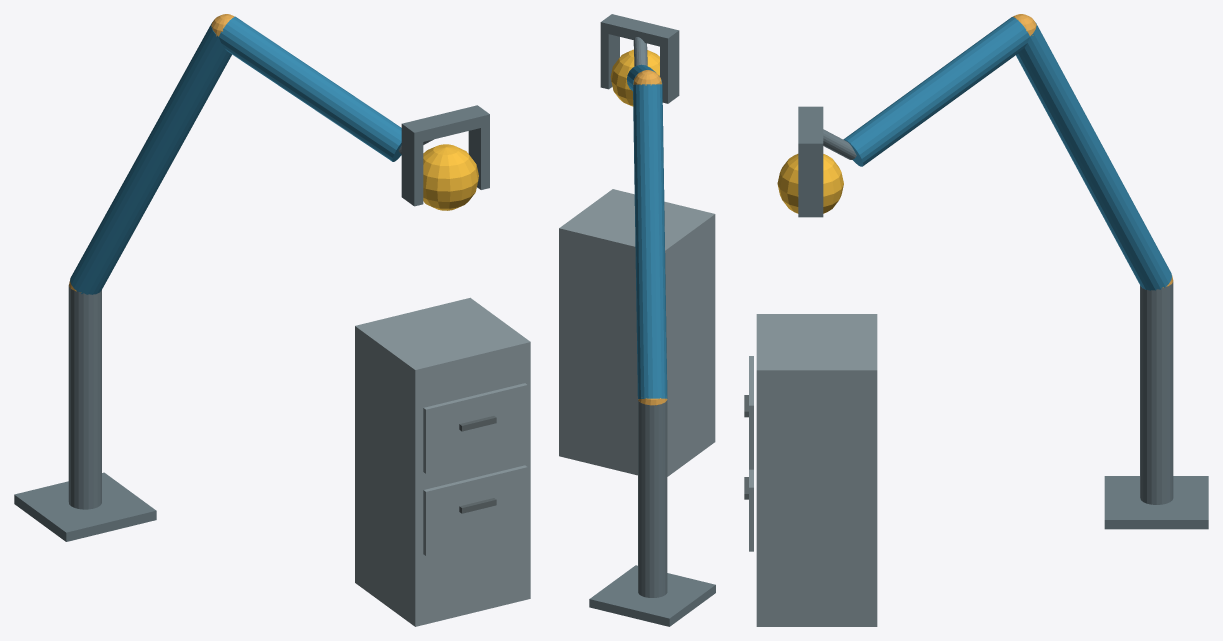
3 views of the same model, side by side, from view 1: azimuth 30°, elevation 25°; view 2: azimuth 150°, elevation 25°; view 3: azimuth 270°, elevation 25° (orthographic). The views are drawn at different scales.
Parts seen in each view (by area): view 1: cabinet_1 body, moving link 1, fixed post, moving link 2, cabinet_1 drawer front, cabinet_1 drawer front.001, pedestal, ball ball_1, gripper bridge, gripper finger -1, gripper finger 1; view 2: cabinet_1 body, moving link 1, fixed post, pedestal, gripper bridge, ball ball_1, gripper finger -1, gripper finger 1, gripper wrist connector, joint 2, moving link 2; view 3: cabinet_1 body, moving link 1, fixed post, moving link 2, pedestal, ball ball_1, gripper finger 1, gripper bridge.
Boxes of the visible parts, bbox=[...] form: cabinet_1 body: bbox=[355, 297, 530, 626]; moving link 1: bbox=[70, 23, 231, 294]; fixed post: bbox=[68, 285, 101, 509]; moving link 2: bbox=[219, 16, 401, 161]; cabinet_1 drawer front: bbox=[423, 465, 527, 555]; cabinet_1 drawer front.001: bbox=[423, 383, 527, 473]; pedestal: bbox=[14, 472, 156, 541]; ball ball_1: bbox=[423, 144, 478, 210]; gripper bridge: bbox=[401, 105, 489, 143]; gripper finger -1: bbox=[401, 135, 423, 206]; gripper finger 1: bbox=[468, 126, 489, 189]; cabinet_1 body: bbox=[559, 189, 715, 476]; moving link 1: bbox=[633, 84, 667, 399]; fixed post: bbox=[638, 399, 667, 597]; pedestal: bbox=[589, 565, 715, 626]; gripper bridge: bbox=[600, 14, 679, 48]; ball ball_1: bbox=[610, 49, 659, 106]; gripper finger -1: bbox=[660, 41, 679, 103]; gripper finger 1: bbox=[600, 32, 619, 89]; gripper wrist connector: bbox=[633, 37, 647, 66]; joint 2: bbox=[633, 70, 661, 86]; moving link 2: bbox=[626, 64, 662, 90]; cabinet_1 body: bbox=[756, 314, 877, 626]; moving link 1: bbox=[1016, 22, 1171, 290]; fixed post: bbox=[1140, 282, 1173, 504]; moving link 2: bbox=[843, 17, 1029, 166]; pedestal: bbox=[1104, 476, 1208, 529]; ball ball_1: bbox=[777, 154, 843, 213]; gripper finger 1: bbox=[798, 155, 823, 217]; gripper bridge: bbox=[798, 106, 823, 154].
Bounding box in the file's own units: 0.8043 × 1.4 × 1.12.
